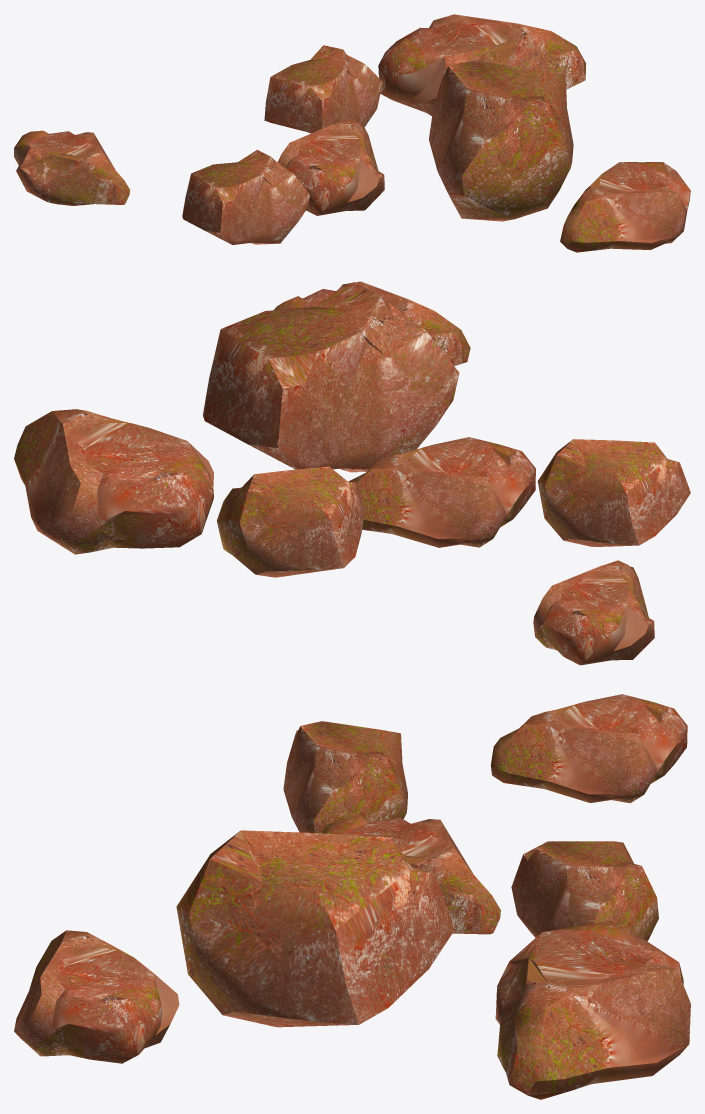
The model's file is cluster1.glb.
3 views of the same model, one above another, from view 1: azimuth 30°, elevation 25°; view 2: azimuth 150°, elevation 25°; view 3: azimuth 270°, elevation 25° (orthographic). The views are drawn at different scales.
Parts seen in each view (by area): view 1: Aset_nature_rock_S_wd3efb0_00_LOD4_3, Aset_nature_rock_S_wdcbcds_00_LOD3_5, Aset_nature_rock_S_wdcbcds_00_LOD3_2, Aset_nature_rock_S_wd3efb0_00_LOD4_2, Aset_nature_rock_S_wd3efb0_00_LOD4_4, Aset_nature_rock_S_wdcbcds_00_LOD3_3, Aset_nature_rock_S_wdcbcds_00_LOD3_4; view 2: Aset_nature_rock_S_wd3efb0_00_LOD4_3, Aset_nature_rock_S_wdcbcds_00_LOD3_5, Aset_nature_rock_S_wdcbcds_00_LOD3_3, Aset_nature_rock_S_wd3efb0_00_LOD4_4, Aset_nature_rock_S_wd3efb0_00_LOD4_2, Aset_nature_rock_S_wdcbcds_00_LOD3_4, Aset_nature_rock_S_wdcbcds_00_LOD3_2; view 3: Aset_nature_rock_S_wd3efb0_00_LOD4_3, Aset_nature_rock_S_wdcbcds_00_LOD3_5, Aset_nature_rock_S_wdcbcds_00_LOD3_4, Aset_nature_rock_S_wdcbcds_00_LOD3_2, Aset_nature_rock_S_wd3efb0_00_LOD4_2, Aset_nature_rock_S_wd3efb0_00_LOD4_4, Aset_nature_rock_S_wdcbcds_00_LOD3_3.
Part boxes in pixels (left/top/right/bottom): Aset_nature_rock_S_wd3efb0_00_LOD4_3: left=429, top=60, right=573, bottom=221; Aset_nature_rock_S_wdcbcds_00_LOD3_5: left=378, top=14, right=586, bottom=115; Aset_nature_rock_S_wdcbcds_00_LOD3_2: left=560, top=162, right=690, bottom=252; Aset_nature_rock_S_wd3efb0_00_LOD4_2: left=182, top=149, right=309, bottom=244; Aset_nature_rock_S_wd3efb0_00_LOD4_4: left=264, top=45, right=382, bottom=133; Aset_nature_rock_S_wdcbcds_00_LOD3_3: left=278, top=119, right=384, bottom=215; Aset_nature_rock_S_wdcbcds_00_LOD3_4: left=14, top=130, right=130, bottom=205; Aset_nature_rock_S_wd3efb0_00_LOD4_3: left=203, top=282, right=459, bottom=472; Aset_nature_rock_S_wdcbcds_00_LOD3_5: left=14, top=409, right=213, bottom=554; Aset_nature_rock_S_wdcbcds_00_LOD3_3: left=348, top=437, right=535, bottom=547; Aset_nature_rock_S_wd3efb0_00_LOD4_4: left=217, top=466, right=364, bottom=577; Aset_nature_rock_S_wd3efb0_00_LOD4_2: left=537, top=439, right=690, bottom=546; Aset_nature_rock_S_wdcbcds_00_LOD3_4: left=533, top=560, right=654, bottom=665; Aset_nature_rock_S_wdcbcds_00_LOD3_2: left=274, top=281, right=470, bottom=365; Aset_nature_rock_S_wd3efb0_00_LOD4_3: left=176, top=830, right=455, bottom=1027; Aset_nature_rock_S_wdcbcds_00_LOD3_5: left=495, top=920, right=690, bottom=1099; Aset_nature_rock_S_wdcbcds_00_LOD3_4: left=490, top=694, right=687, bottom=803; Aset_nature_rock_S_wdcbcds_00_LOD3_2: left=14, top=930, right=179, bottom=1063; Aset_nature_rock_S_wd3efb0_00_LOD4_2: left=283, top=721, right=407, bottom=833; Aset_nature_rock_S_wd3efb0_00_LOD4_4: left=511, top=841, right=658, bottom=941; Aset_nature_rock_S_wdcbcds_00_LOD3_3: left=322, top=817, right=500, bottom=934.
Size of what is drawn, in the model's own units: 2.22 by 0.5343 by 1.73.
2 materials, 2 textured.
